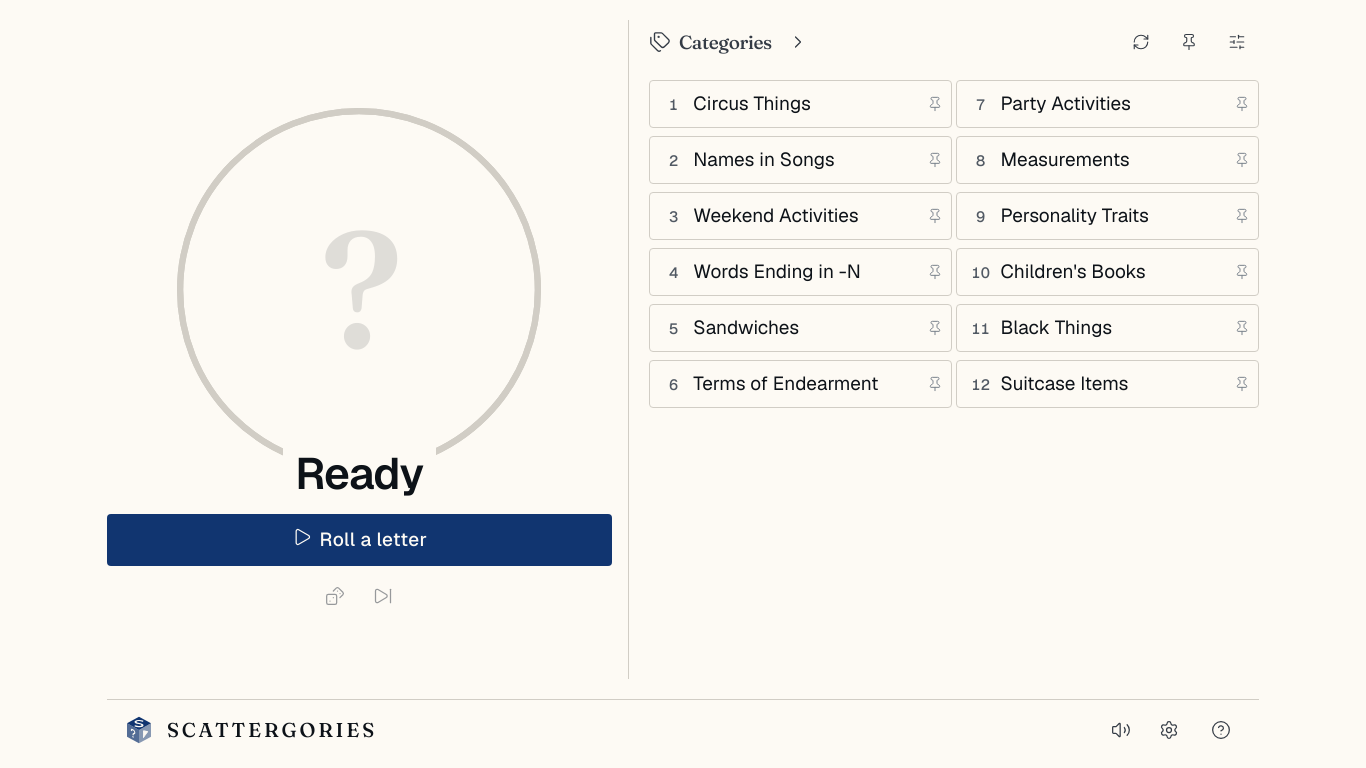
Test case: toggles categories and mute from user controls
Expected: the heading "Scattergories" is shown, [167, 720, 377, 740]
Type keys "c"
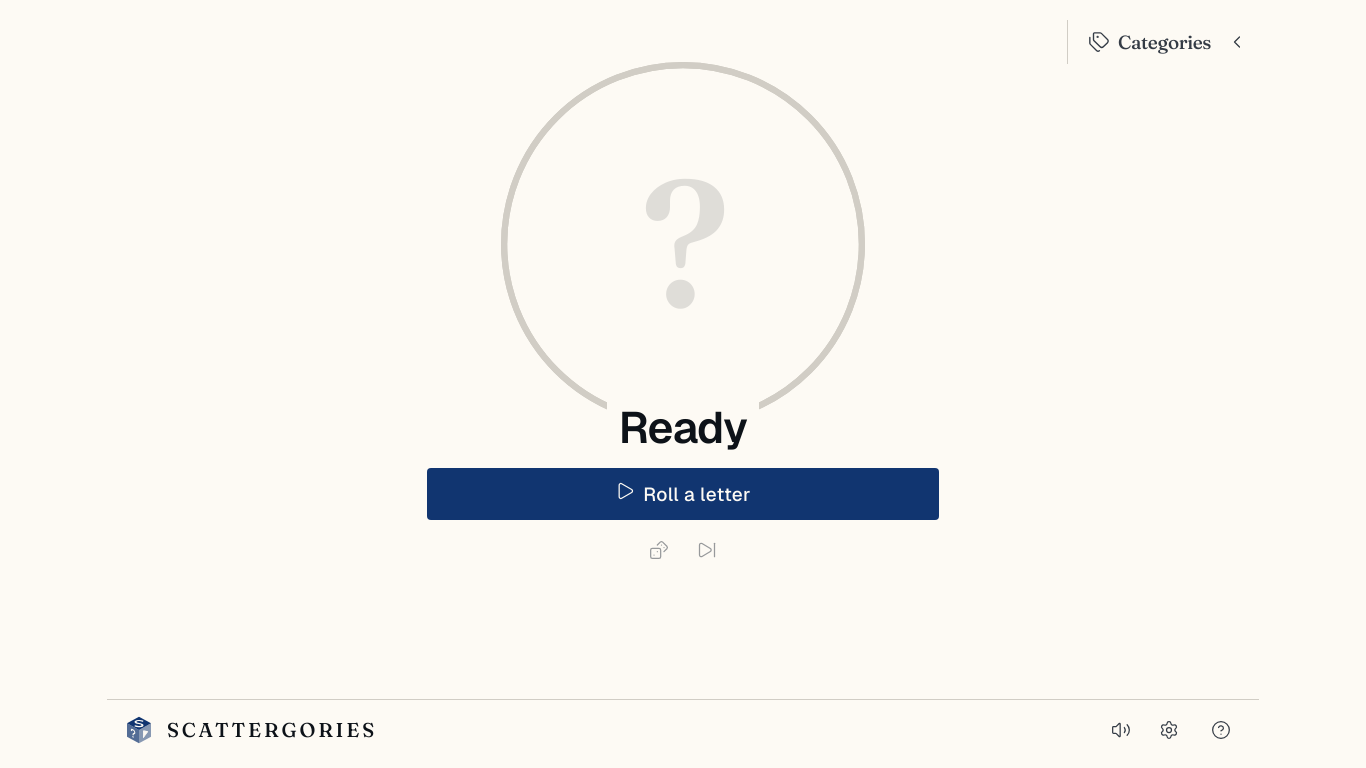
Now the button named "Open categories" is collapsed, box [1215, 20, 1259, 64]
Type keys "c"
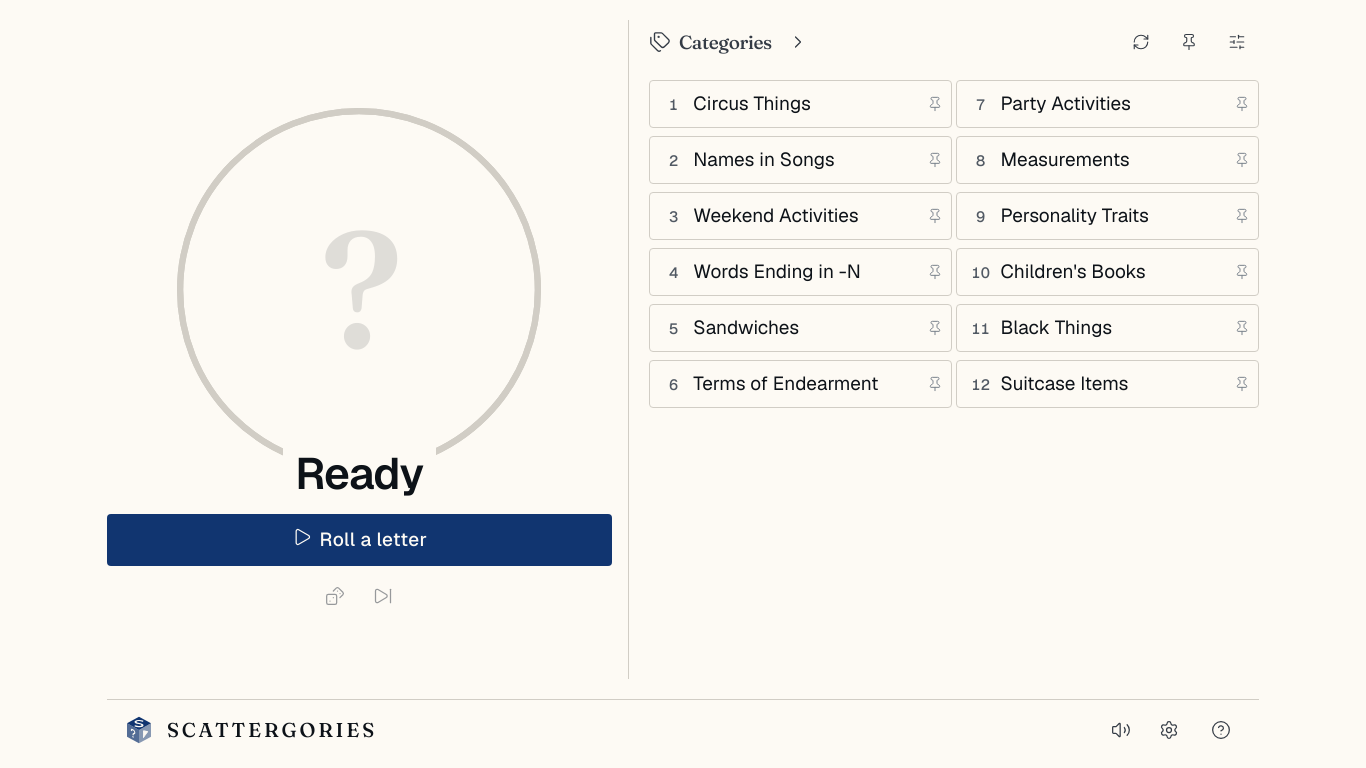
Click the button named "Mute": (1121, 730) [1099, 708, 1143, 752]
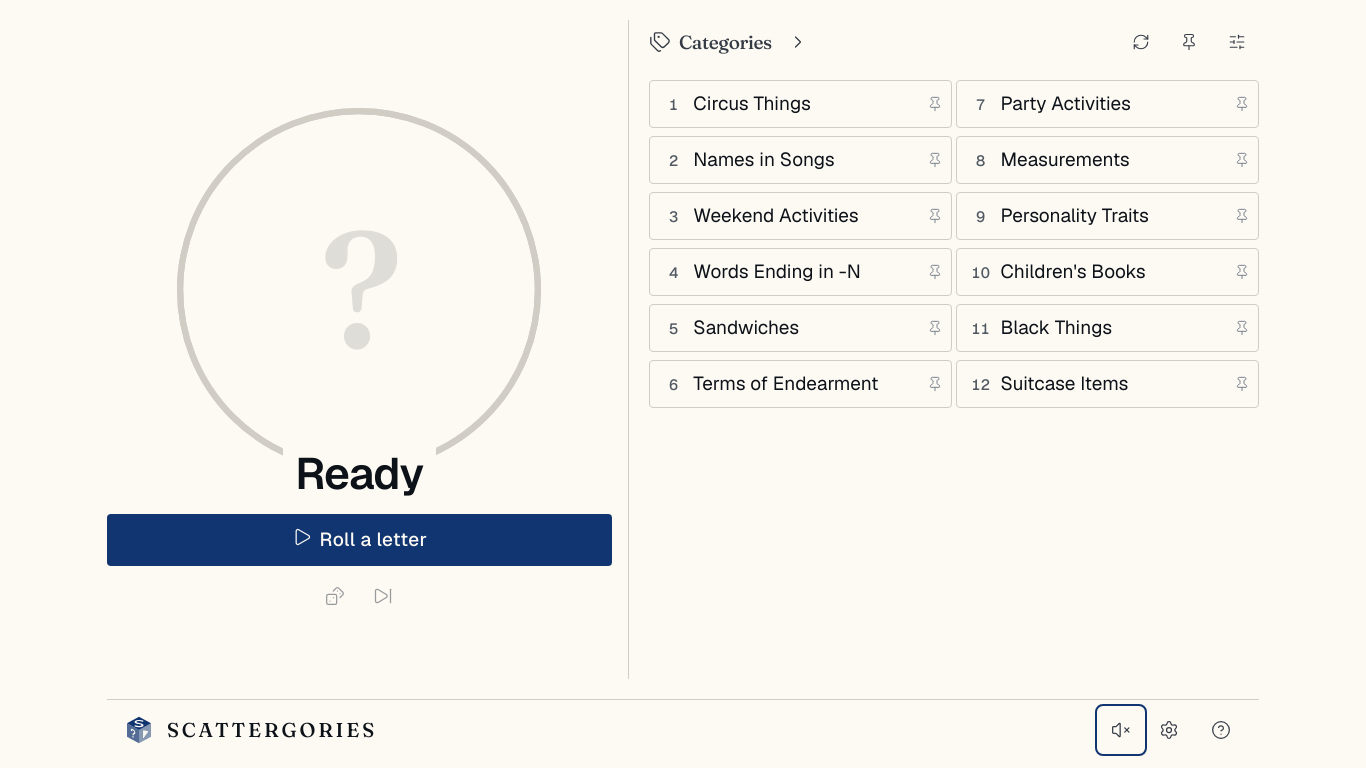
Now the button named "Unmute" is shown, box [1099, 708, 1143, 752]
